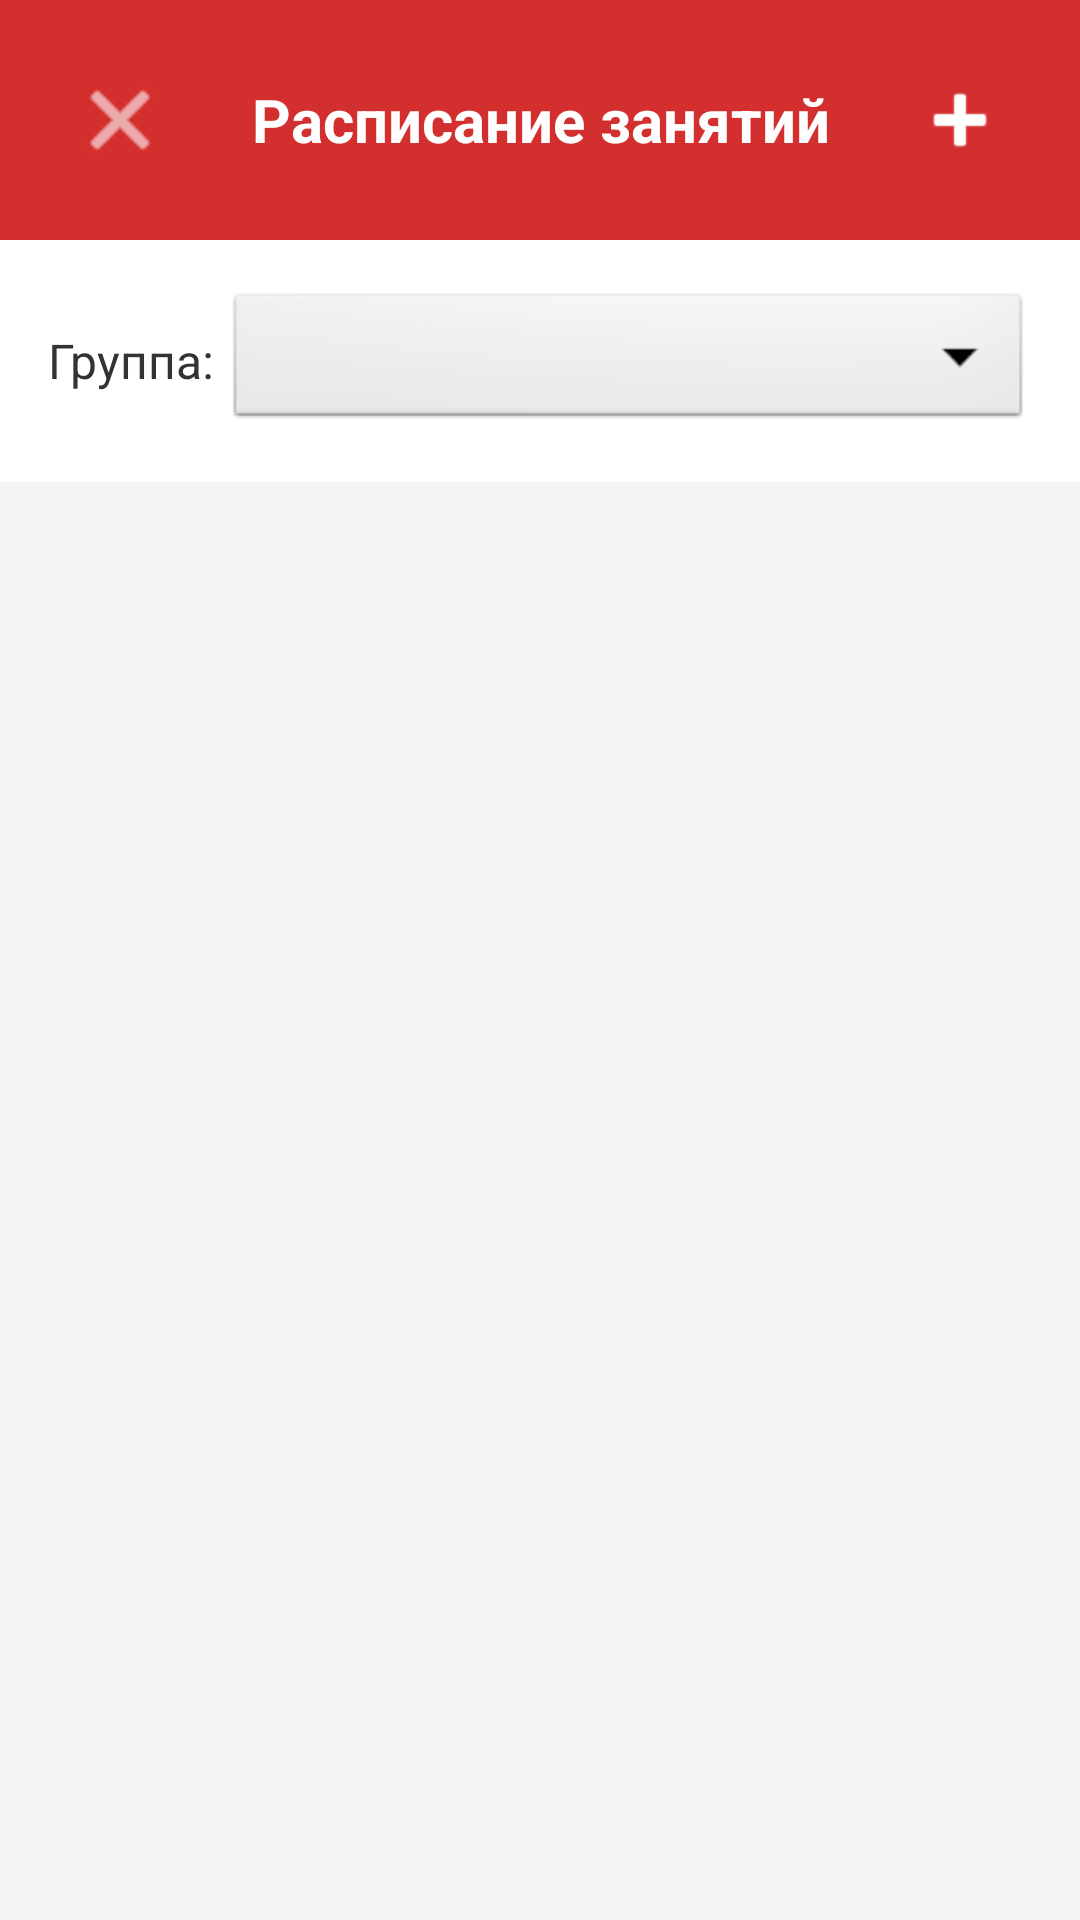

Screen size 1080×1920. Icon name, then its center in pixels as [x,y]:
Добавить: [960,120]
